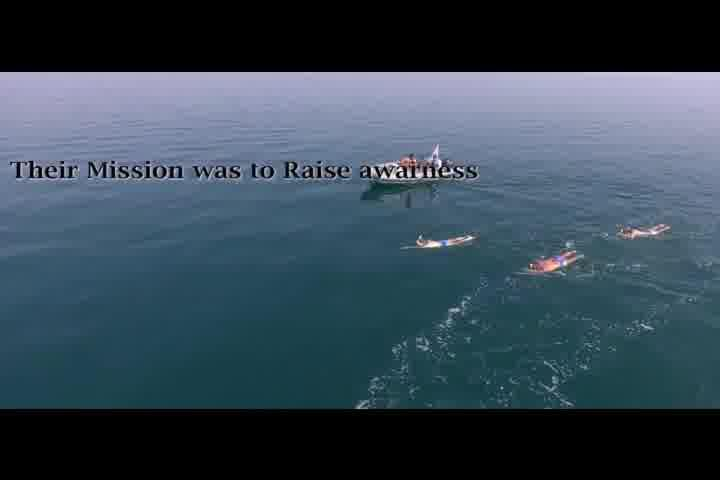human: (400, 228, 476, 256), (518, 244, 583, 276), (611, 218, 676, 247)
